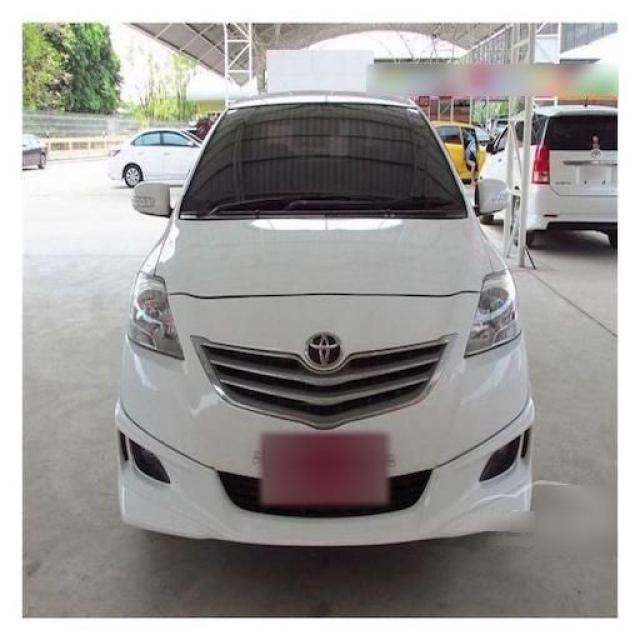front_bumper: (114, 292, 534, 546)
front_glass: (179, 104, 467, 221)
front_left_light: (464, 267, 523, 356)
front_right_light: (126, 271, 185, 357)
hood: (154, 217, 494, 297)
left_mirror: (471, 179, 510, 216)
right_mirror: (131, 181, 171, 218)
